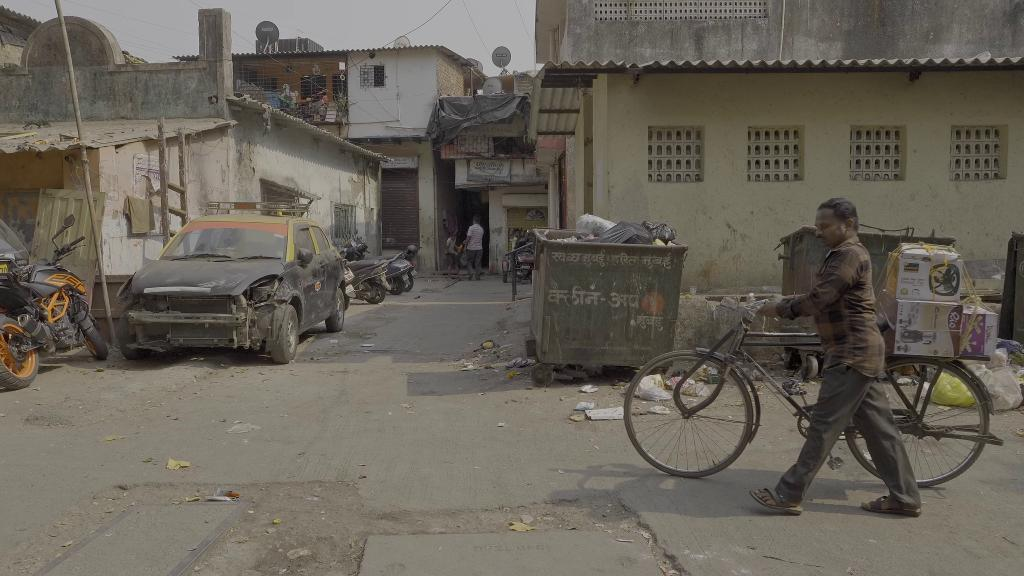dustbin: (531, 220, 679, 384)
